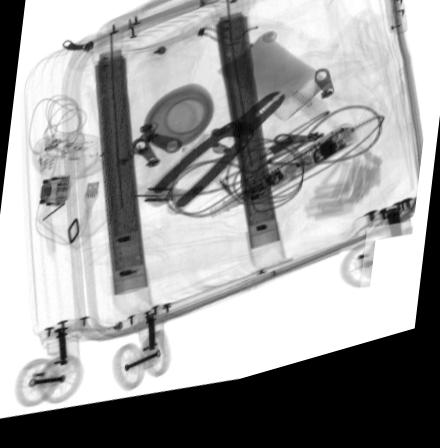Pliers: (150, 106, 287, 218)
